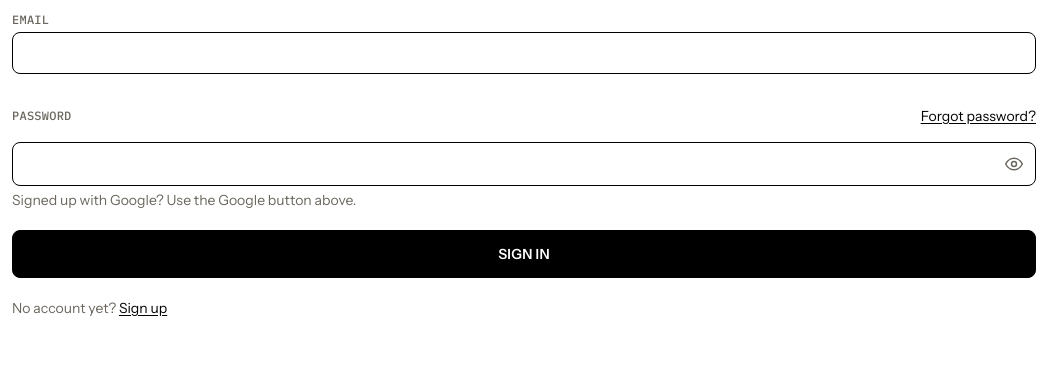
LoginForm: a wrong email or password, with Apple / Google offered › names only the provider that's on
Type "mia@example.com" into the field labelled "Email".
click(524, 53); type("mia@example.com")  # box [12,32,1036,74]
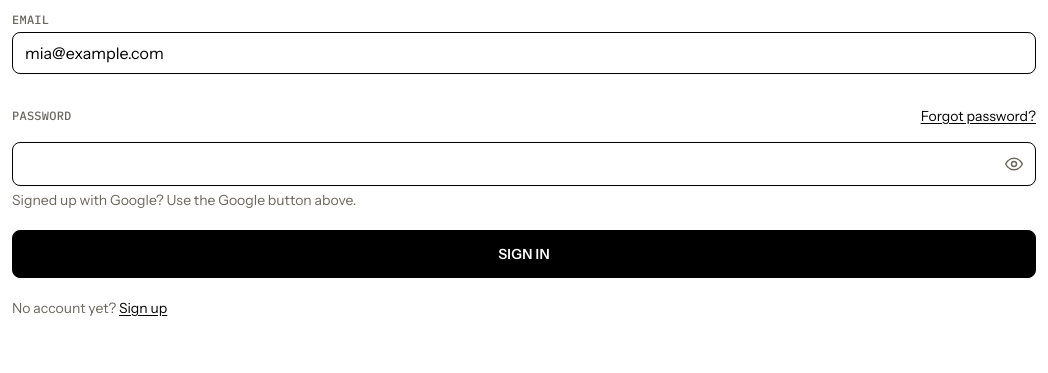
Type "wrong" into the password field labelled "Password".
click(524, 164); type("wrong")  # box [12,142,1036,186]
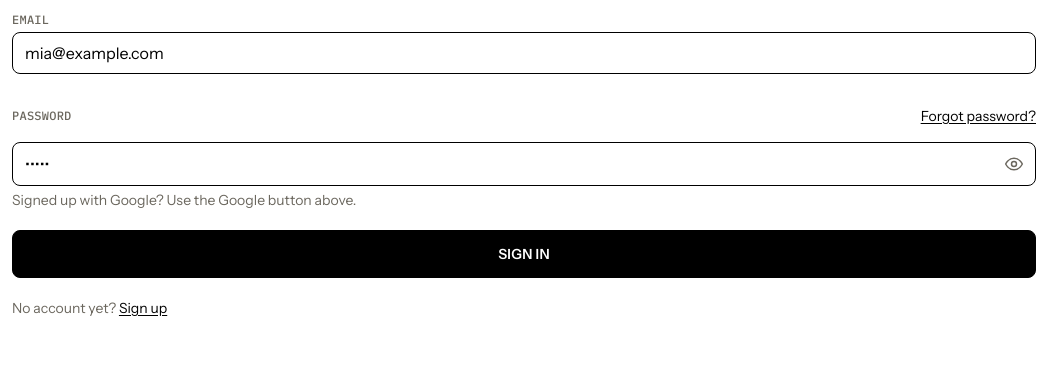
Click the button "Sign in".
click(524, 254)  # box [12,230,1036,278]
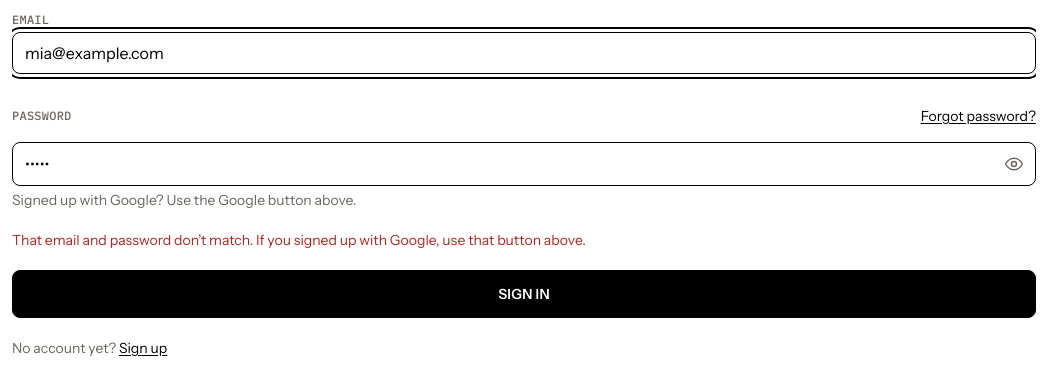
Expected: the message shows "That email and password don’t match. If you signed up with Google, use that button above.", [12,231,586,249]
